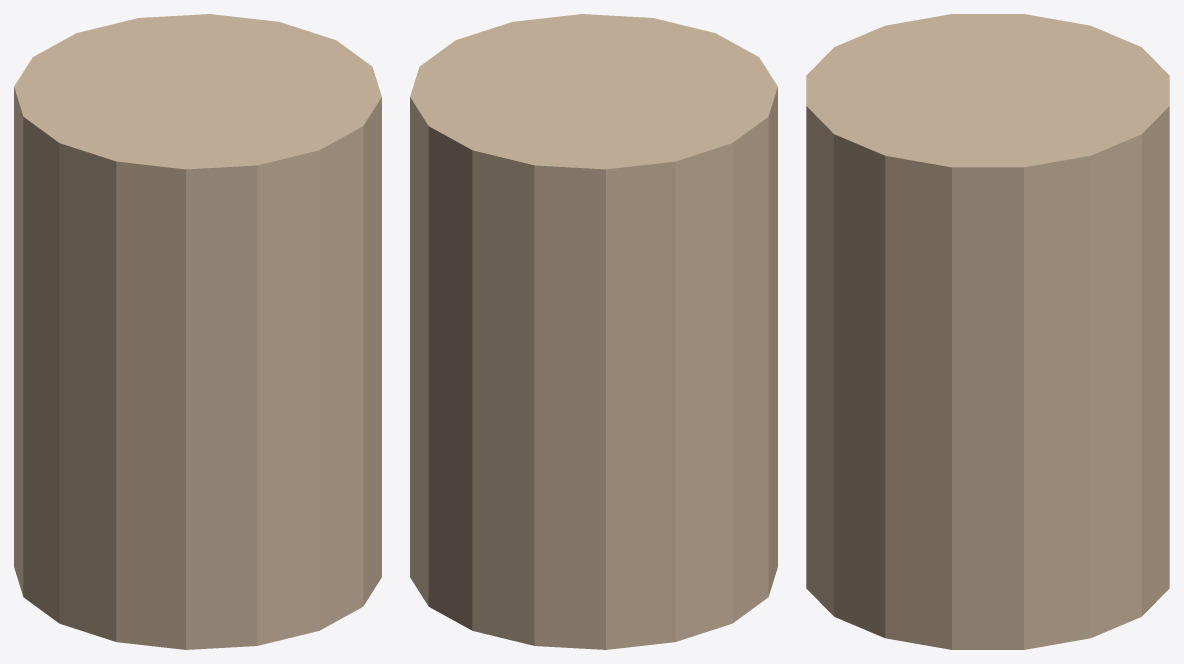
The model's file is hamal_cargo_module_s1_2_ex_collider.obj.
3 renders of one model, left to right at view 1: azimuth 30°, elevation 25°; view 2: azimuth 150°, elevation 25°; view 3: azimuth 270°, elevation 25°, orthographic.
Parts seen in each view (by area): view 1: collider; view 2: collider; view 3: collider.
Part boxes in pixels (x1=…): collider: x1=14, y1=14, x2=381, y2=649; collider: x1=410, y1=14, x2=777, y2=649; collider: x1=806, y1=14, x2=1169, y2=649.
Bounding box in the file's own units: 1.88 × 2.75 × 1.88.
